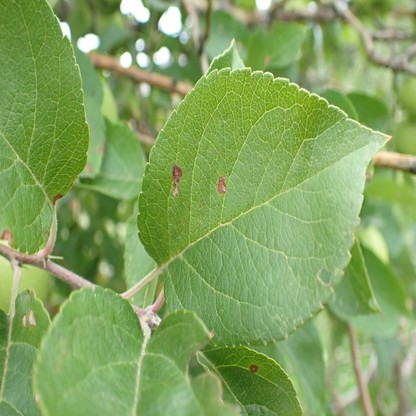frogeye_leaf_spot: (172, 163, 183, 196), (22, 310, 36, 327), (1, 229, 13, 248), (217, 174, 227, 194), (53, 195, 62, 205), (249, 364, 259, 371)
